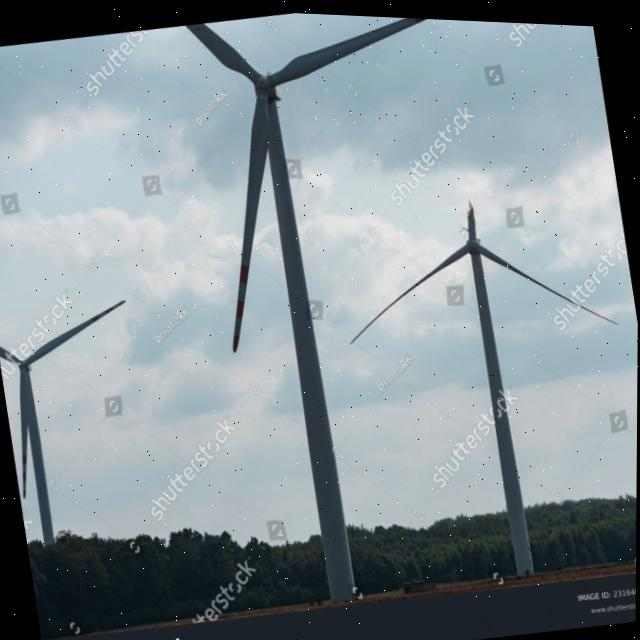damaged-blade: (468, 198, 477, 236)
solid-blade: (351, 242, 469, 340), (233, 88, 271, 349), (22, 300, 125, 366)
